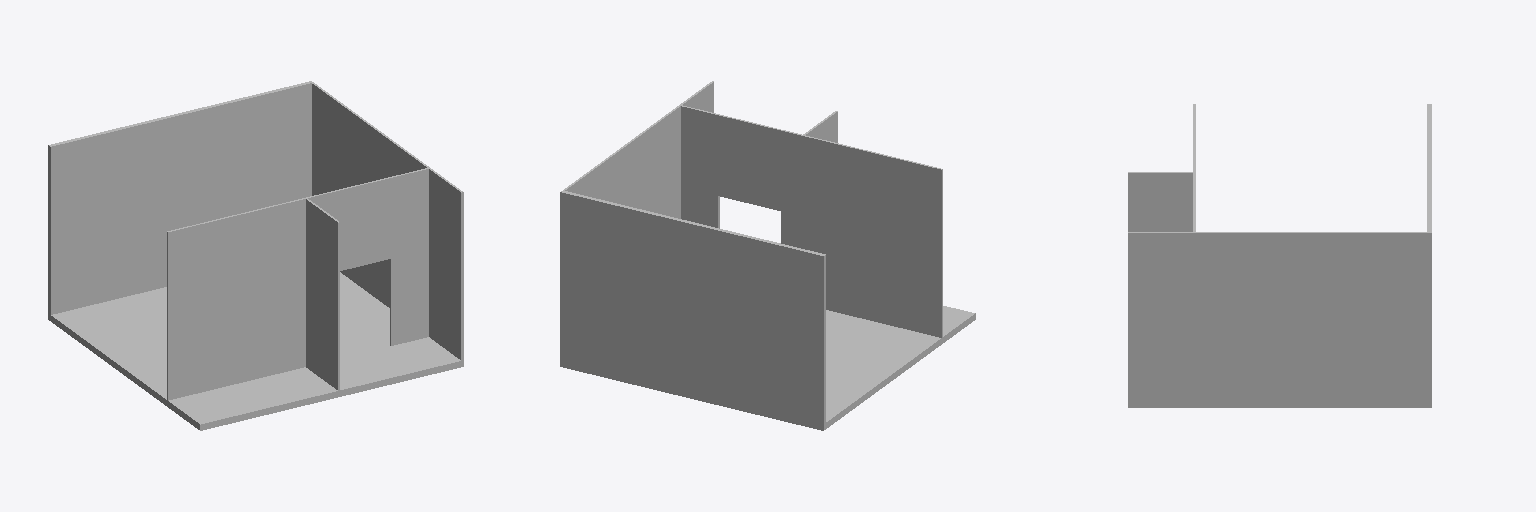
Rendered from 4x4 second-4.obj.
3 views of the same model, side by side, from view 1: azimuth 30°, elevation 25°; view 2: azimuth 150°, elevation 25°; view 3: azimuth 270°, elevation 25° (orthographic).
Visible parts, largest first — view 1: 4x4 second-4; view 2: 4x4 second-4; view 3: 4x4 second-4.
Part boxes in pixels (bbox=[...]): 4x4 second-4: bbox=[48, 81, 463, 430]; 4x4 second-4: bbox=[560, 81, 975, 430]; 4x4 second-4: bbox=[1128, 104, 1431, 407].
Size of the model in its own units: 126 by 80 by 126.